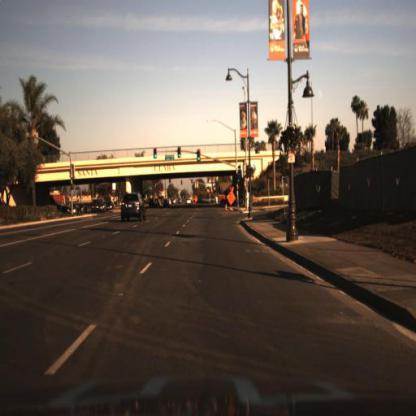car: (120, 192, 147, 228), (94, 195, 107, 217)
trafficLight-Green: (197, 146, 205, 166), (176, 145, 184, 163), (236, 170, 242, 191), (152, 149, 159, 165), (177, 146, 184, 162), (153, 145, 159, 161), (196, 148, 202, 164)
